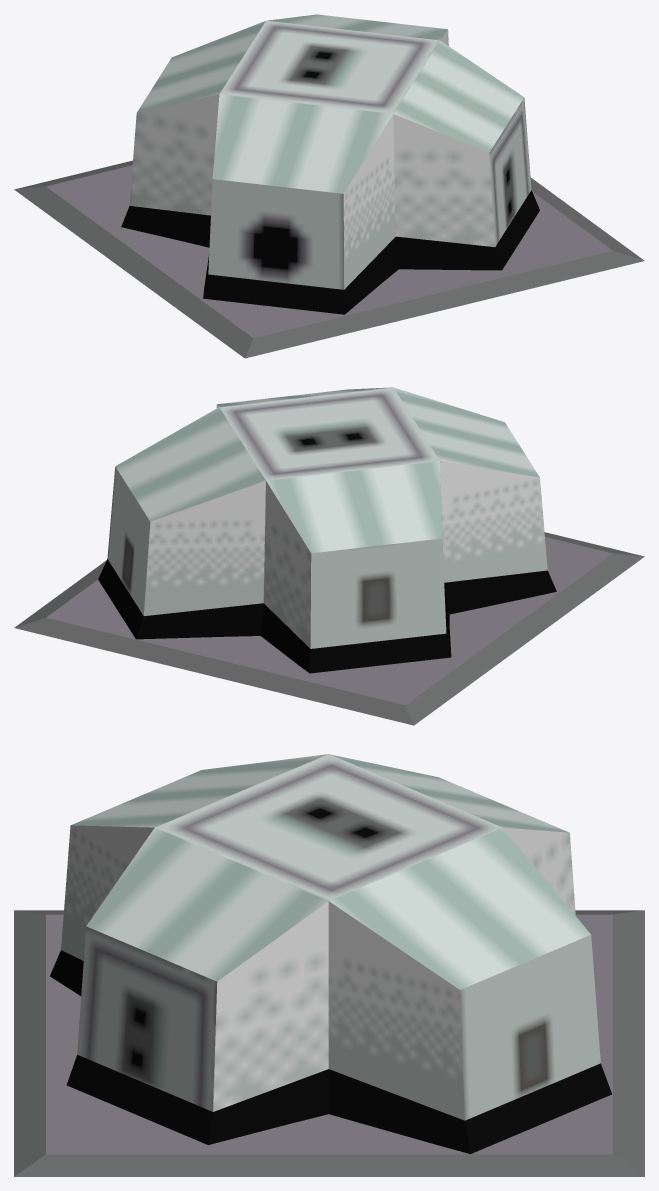
Rendered from Bld_Oil_Refinery_Small_4.fbx.
3 renders of one model, top to bottom at view 1: azimuth 30°, elevation 25°; view 2: azimuth 150°, elevation 25°; view 3: azimuth 270°, elevation 25°, orthographic. The views are drawn at different scales.
Visible parts, largest first — view 1: BLD_OilRefinery_Small04; view 2: BLD_OilRefinery_Small04; view 3: BLD_OilRefinery_Small04.
Part boxes in pixels (x1=…): BLD_OilRefinery_Small04: x1=14, y1=14, x2=644, y2=358; BLD_OilRefinery_Small04: x1=14, y1=387, x2=644, y2=725; BLD_OilRefinery_Small04: x1=14, y1=754, x2=644, y2=1176.
Bounding box in the file's own units: 400 × 400 × 154.
